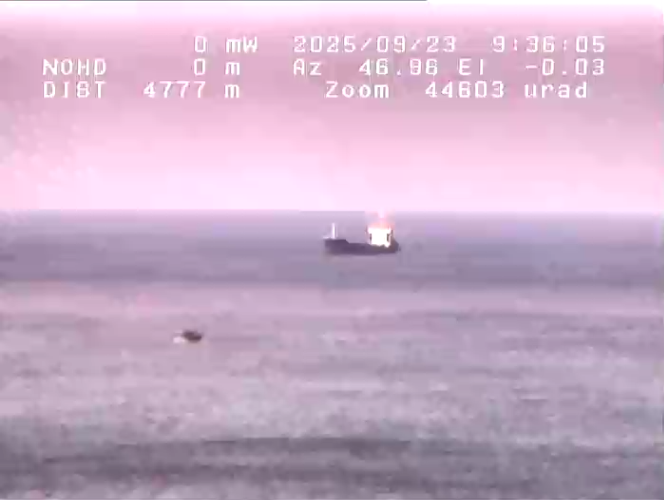TANKER: (309, 205, 413, 267)
TUGS: (163, 325, 206, 347)
